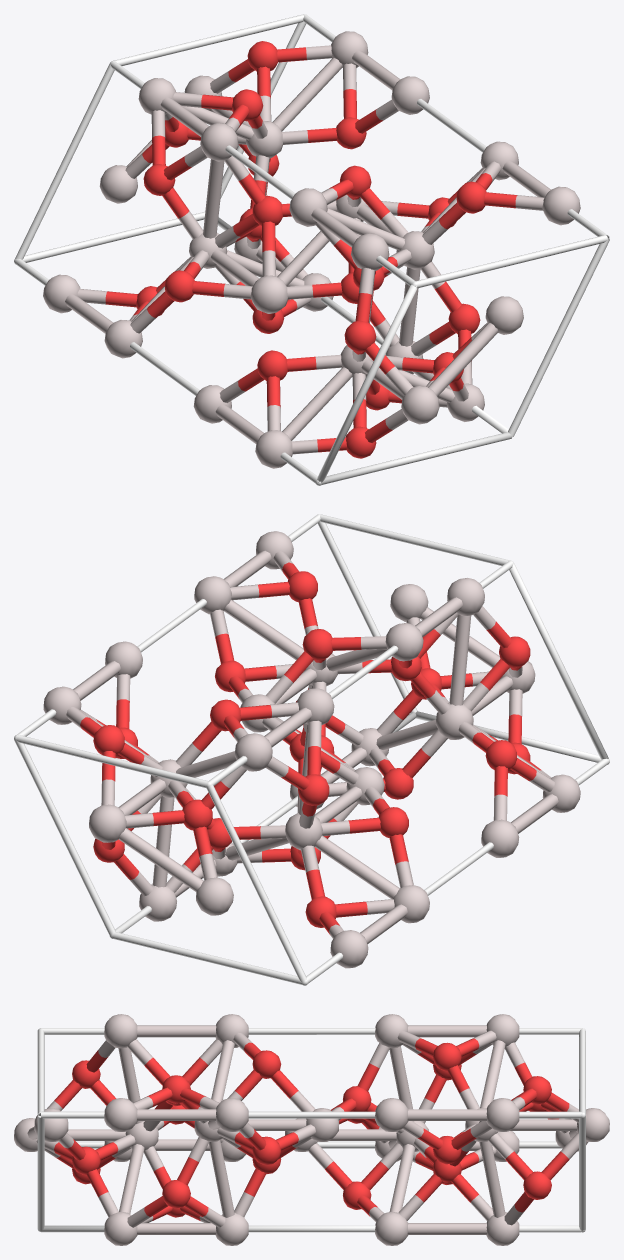
Rendered from corindon.fbx.
3 renders of one model, top to bottom at view 1: azimuth 30°, elevation 25°; view 2: azimuth 150°, elevation 25°; view 3: azimuth 270°, elevation 25°, orthographic. The views are drawn at different scales.
Parts seen in each view (by area): view 1: Al, O.002, limite.002; view 2: Al, O.002, limite.002; view 3: Al, O.002, limite.002.
Part boxes in pixels (x1=…): Al: x1=43, y1=31, x2=580, y2=468; O.002: x1=105, y1=41, x2=517, y2=458; limite.002: x1=14, y1=14, x2=609, y2=485; Al: x1=43, y1=531, x2=580, y2=968; O.002: x1=80, y1=562, x2=541, y2=934; limite.002: x1=14, y1=514, x2=609, y2=985; Al: x1=14, y1=1014, x2=609, y2=1245; O.002: x1=54, y1=1038, x2=569, y2=1220; limite.002: x1=37, y1=1028, x2=585, y2=1232.
Bounding box in the file's own units: 24.36 × 15.18 × 43.78.
